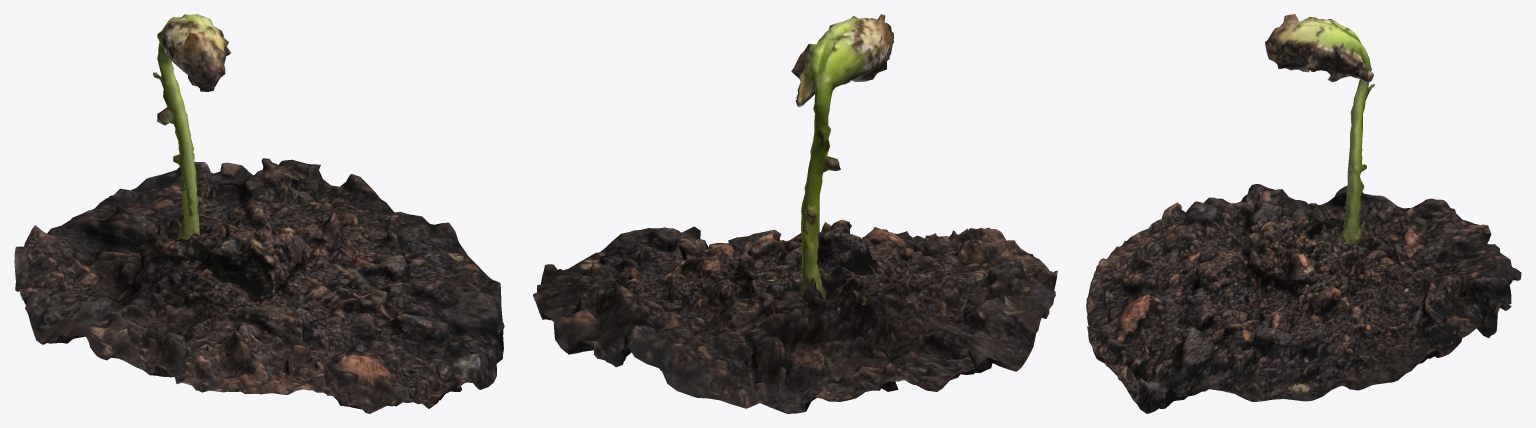
The model's file is old.glb.
The picture shows the model from 3 angles, left to right: view 1: azimuth 30°, elevation 25°; view 2: azimuth 150°, elevation 25°; view 3: azimuth 270°, elevation 25°; orthographic projection. The views are drawn at different scales.
Visible parts, largest first — view 1: Group32680; view 2: Group32680; view 3: Group32680.
Part boxes in pixels (x1=…): Group32680: x1=14, y1=14, x2=504, y2=413; Group32680: x1=533, y1=14, x2=1057, y2=413; Group32680: x1=1086, y1=14, x2=1521, y2=413.
Bounding box in the file's own units: 25.82 × 19.99 × 25.69.
1 material, 1 textured.
